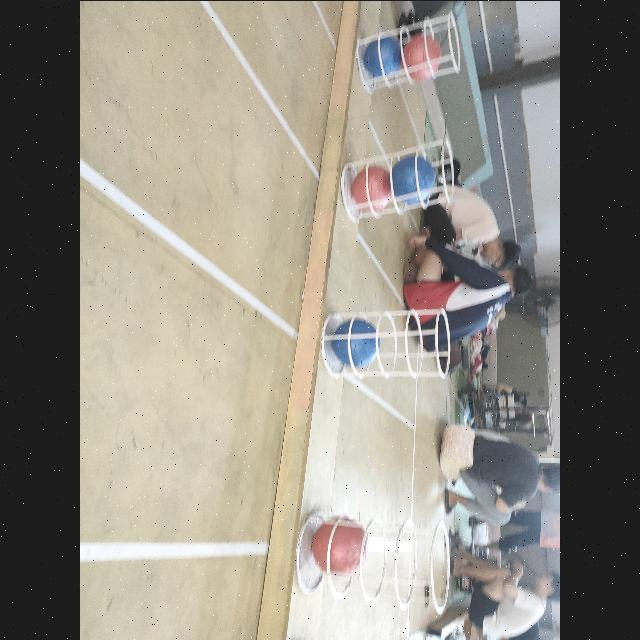B: (388, 152, 436, 204), (331, 320, 379, 366), (364, 36, 402, 76)
R: (312, 516, 368, 576), (402, 37, 442, 81), (352, 168, 392, 208)
